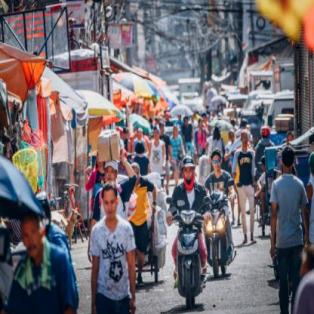Motocicleta: (163, 190, 211, 312), (200, 185, 233, 278)
